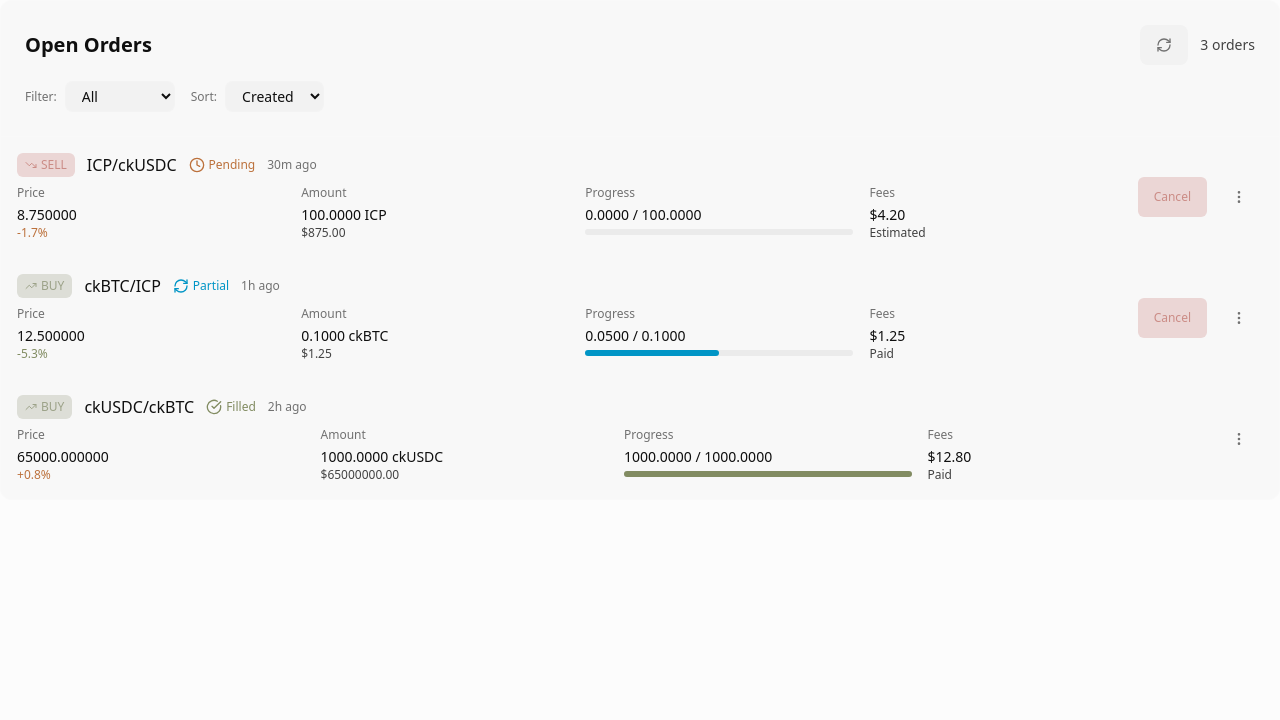
Test: OpenOrdersList Component › Order Cancellation with Wallet Signature › should show error toast when cancellation fails
Cancel order
What coordinates should you click on to do the following:
click the button "Cancel" in the row of "4.20"
I would click on:
 (1172, 197)
Its box is x1=1138 y1=177 x2=1207 y2=217.
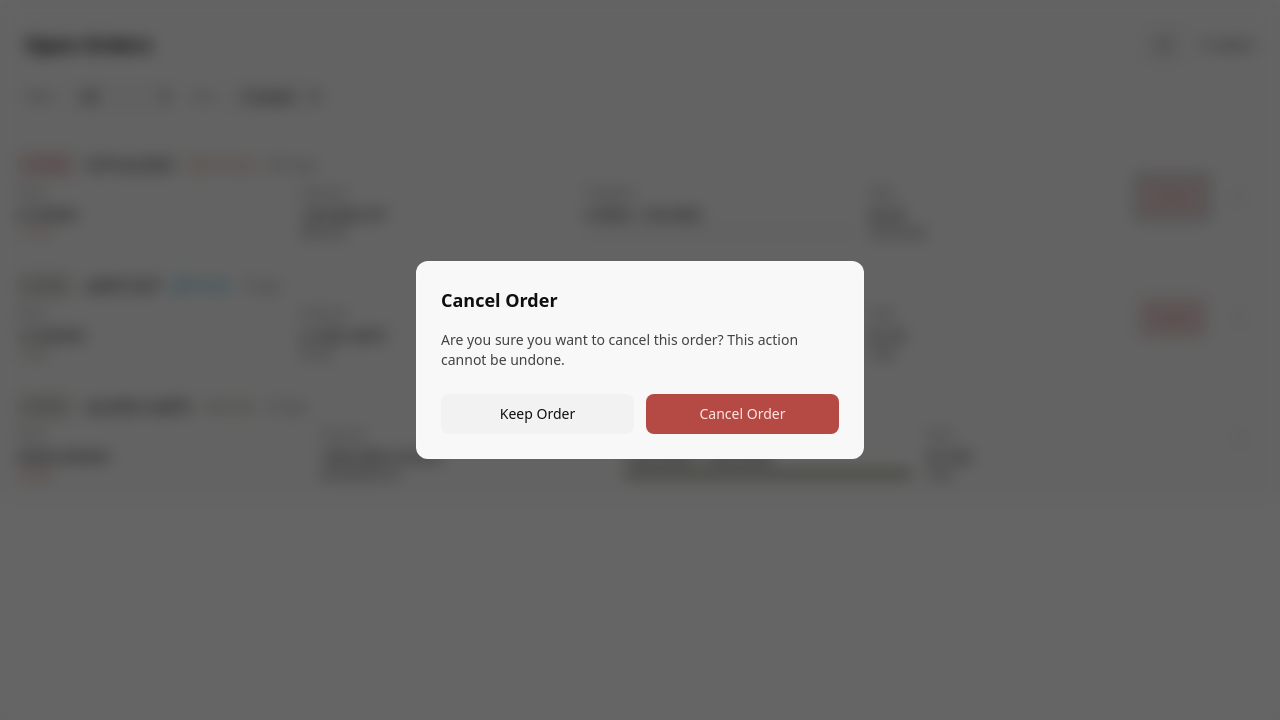
What coordinates should you click on to do the following:
click the button "Cancel Order"
I would click on:
 (742, 414)
Its box is x1=646 y1=394 x2=839 y2=434.
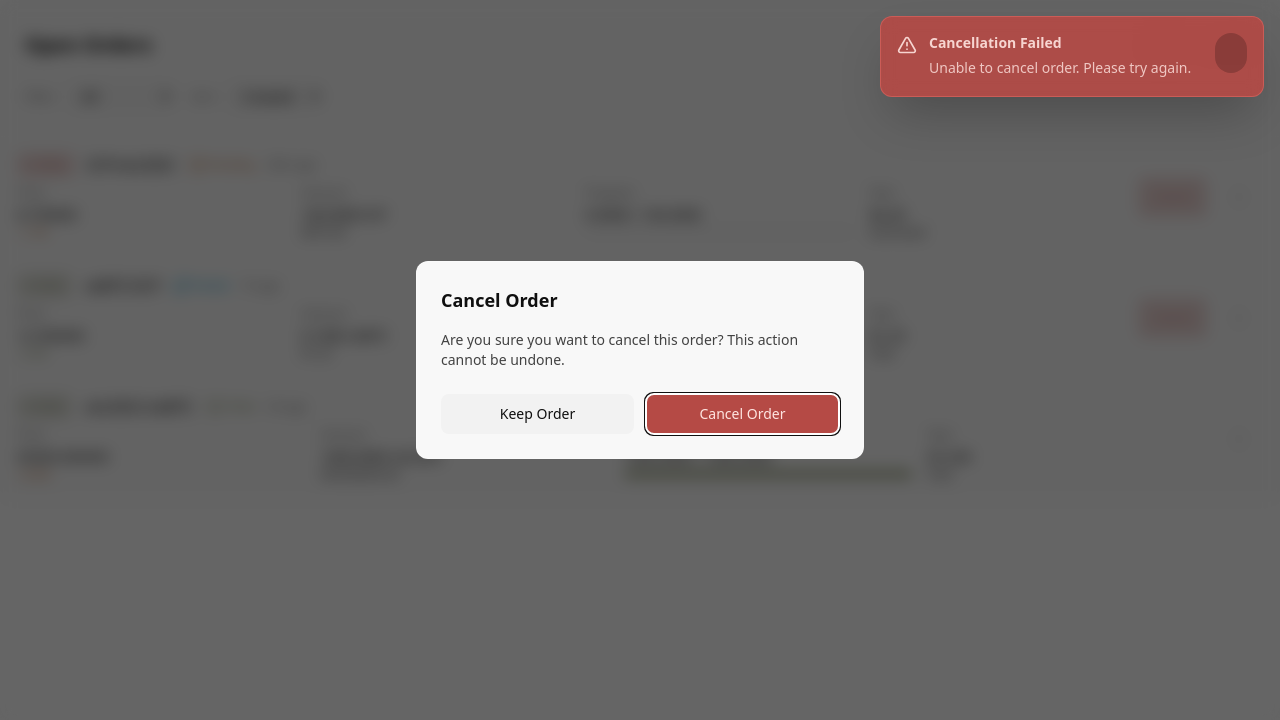
Check: the text "Cancellation Failed" is shown, box x1=929 y1=33 x2=1062 y2=52
Check: the text "Unable to cancel order. Please try again." is shown, box x1=929 y1=57 x2=1203 y2=80
